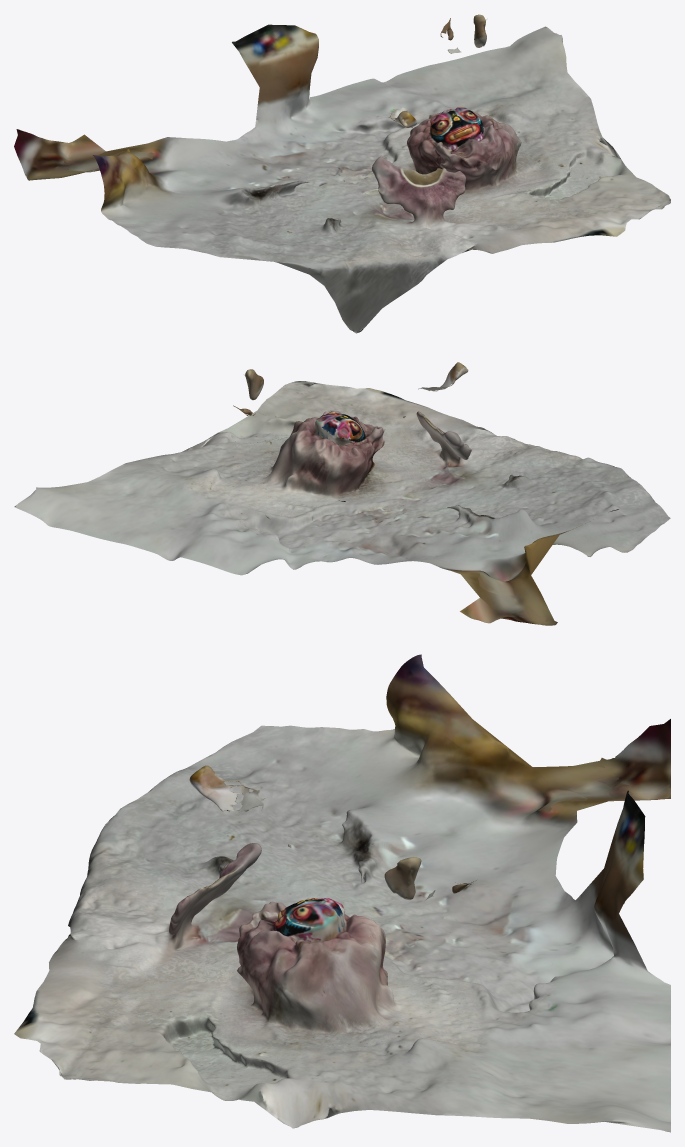
3 views of the same model, one above another, from view 1: azimuth 30°, elevation 25°; view 2: azimuth 150°, elevation 25°; view 3: azimuth 270°, elevation 25° (orthographic). The views are drawn at different scales.
Bounding box in the file's own units: 4.87 × 1.55 × 3.53.
1 material, 1 textured.
